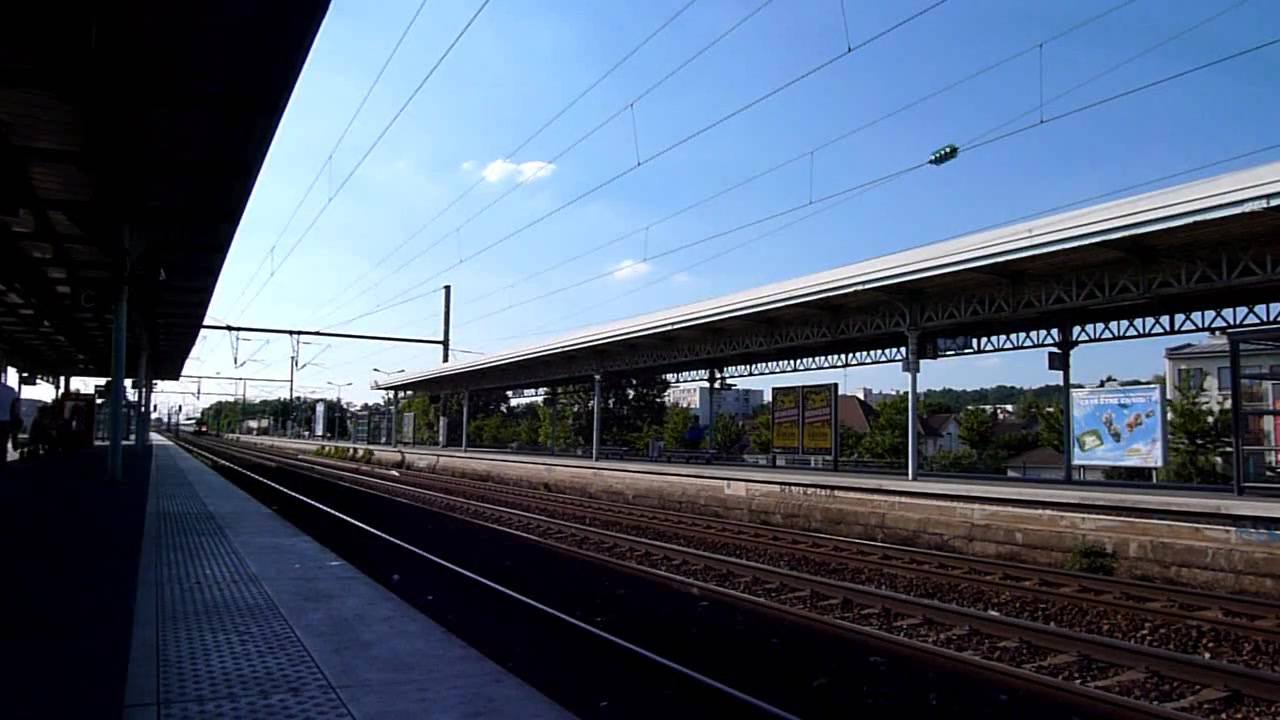train: (170, 416, 211, 436)
